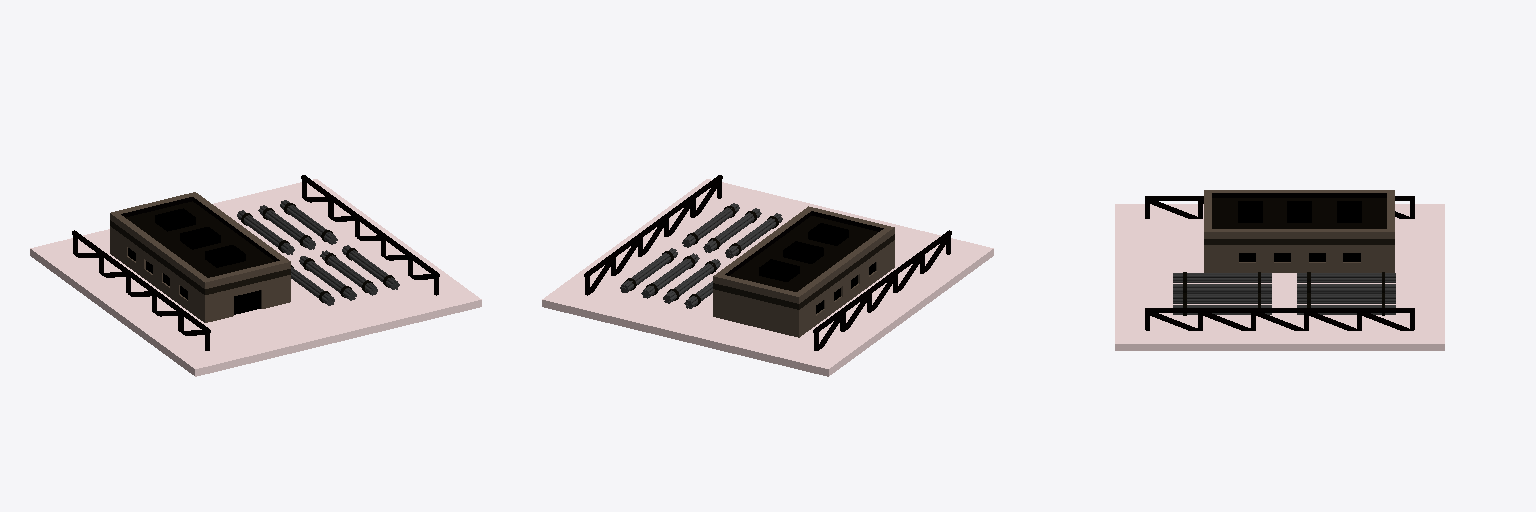
File: PatioDeAcero.obj
The picture shows the model from 3 angles: view 1: azimuth 30°, elevation 25°; view 2: azimuth 150°, elevation 25°; view 3: azimuth 270°, elevation 25°; orthographic projection.
Parts seen in each view (by area): view 1: Floor, Building MainBuilding MainColor MainWalls OuterWalls, Building MainBuilding Rooftop MainColor, Line Building MainBuilding, Building MainBuilding MainColor InnerRooftopWalls MainWalls, MainBuilding VentilationSystem OutsideVent Ventilation3, MainBuilding VentilationSystem OutsideVent Ventilation2, MainBuilding OutsideVent Ventilation1 VentilationSystem; view 2: Floor, Building MainBuilding MainColor MainWalls OuterWalls, Building MainBuilding Rooftop MainColor, Line Building MainBuilding, Building MainBuilding MainColor InnerRooftopWalls MainWalls, MainBuilding VentilationSystem OutsideVent Ventilation3, MainBuilding OutsideVent Ventilation1 VentilationSystem, MainBuilding VentilationSystem OutsideVent Ventilation2; view 3: Floor, Building MainBuilding MainColor MainWalls OuterWalls, Building MainBuilding Rooftop MainColor, Line Building MainBuilding, Building MainBuilding MainColor InnerRooftopWalls MainWalls.
Part boxes in pixels (x1,y1,x2,y2): Floor: (30,179,481,376); Building MainBuilding MainColor MainWalls OuterWalls: (110,192,290,322); Building MainBuilding Rooftop MainColor: (126,201,274,277); Line Building MainBuilding: (110,220,290,294); Building MainBuilding MainColor InnerRooftopWalls MainWalls: (121,197,279,261); MainBuilding VentilationSystem OutsideVent Ventilation3: (155,208,195,231); MainBuilding VentilationSystem OutsideVent Ventilation2: (180,227,220,249); MainBuilding OutsideVent Ventilation1 VentilationSystem: (205,245,245,267); Floor: (542,179,993,376); Building MainBuilding MainColor MainWalls OuterWalls: (713,206,894,337); Building MainBuilding Rooftop MainColor: (730,216,877,291); Line Building MainBuilding: (713,234,894,309); Building MainBuilding MainColor InnerRooftopWalls MainWalls: (725,211,883,275); MainBuilding VentilationSystem OutsideVent Ventilation3: (759,259,799,281); MainBuilding OutsideVent Ventilation1 VentilationSystem: (808,223,848,245); MainBuilding VentilationSystem OutsideVent Ventilation2: (783,241,823,263); Floor: (1115,204,1444,350); Building MainBuilding MainColor MainWalls OuterWalls: (1204,190,1394,272); Building MainBuilding Rooftop MainColor: (1212,198,1386,228); Line Building MainBuilding: (1204,239,1394,244); Building MainBuilding MainColor InnerRooftopWalls MainWalls: (1212,193,1386,197).
Size of the model in its own units: 200 by 34 by 200.